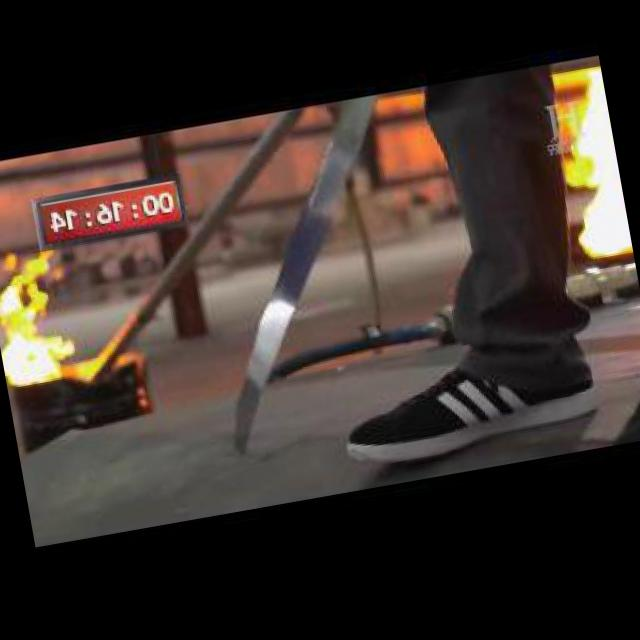fire: (545, 66, 634, 266), (0, 249, 77, 392)
